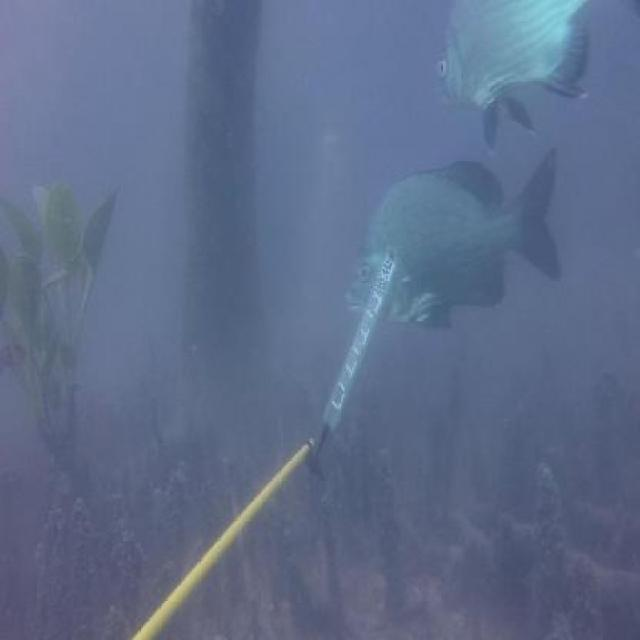acanthopagrus_palmaris: (343, 146, 562, 337), (430, 0, 598, 146)
